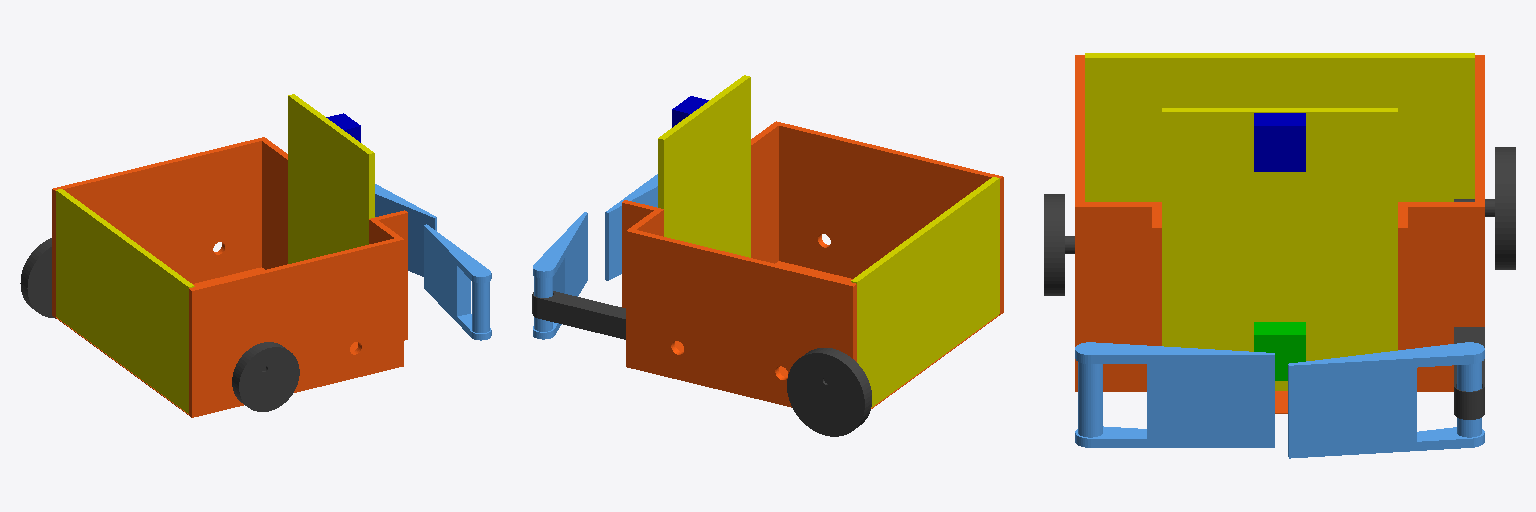
--- Facts derived from the render (not from the file) ---
The picture shows the robot from 3 angles, left to right: view 1: azimuth 30°, elevation 25°; view 2: azimuth 150°, elevation 25°; view 3: azimuth 270°, elevation 25°; orthographic projection.
Model final with 14 links and 13 joints (2 revolute, 4 continuous, 2 prismatic, 5 fixed), rooted at base_link, posed every joint at zero.
Visible links, largest first — view 1: base_link, B, F, RF, RRW, LF, RLW; view 2: base_link, B, F, RLW, LF, LA, RF; view 3: F, B, base_link, RF, LF, FC, RLW, RRW, L, LA.
Boxes of the visible links, x1,y1,x2,y2 form: base_link: (52, 137, 407, 417); B: (56, 189, 194, 413); F: (288, 94, 374, 263); RF: (424, 224, 491, 340); RRW: (232, 342, 299, 411); LF: (375, 184, 436, 276); RLW: (20, 238, 55, 318); base_link: (622, 121, 1003, 408); B: (851, 177, 999, 407); F: (658, 75, 750, 257); RLW: (787, 348, 871, 436); LF: (533, 212, 587, 339); LA: (532, 291, 625, 339); RF: (605, 174, 657, 280); F: (1162, 108, 1397, 390); B: (1085, 53, 1474, 201); base_link: (1075, 55, 1484, 413); RF: (1075, 342, 1274, 447); LF: (1288, 342, 1484, 458); FC: (1254, 113, 1305, 171); RLW: (1454, 147, 1515, 269); RRW: (1044, 194, 1074, 295); L: (1254, 322, 1305, 380); LA: (1454, 327, 1484, 419).
Size in the robot's own frame: 0.5594 by 0.46 by 0.315 metres.
Meshes: 14 distinct files referenced, 10 mesh visuals loaded (10 binary STL); not drawn: 4 (reference not matched to a file when rendering).

The robot description file, URDF, robot "final":
<?xml version="1.0" encoding="utf-8"?>

<robot
  name="final">

  <material name="black">
    <color rgba="0.0 0.0 0.0 1.0"/>
  </material>

  <material name="blue">
    <color rgba="0.0 0.0 0.8 1.0"/>
  </material>

  <material name="green">
    <color rgba="0.0 0.8 0.0 1.0"/>
  </material>

  <material name="grey">
    <color rgba="0.3 0.3 0.3 1.0"/>
  </material>

  <material name="orange">
    <color rgba="1 0.4 0.1 1"/>
  </material>

  <material name="red">
    <color rgba="0.8 0.0 0.0 1.0"/>
  </material>

  <material name="white">
    <color rgba="1.0 1.0 1.0 1.0"/>
  </material>

  <material name="yellow">
    <color rgba="0.9 0.9 0 1.0"/>
  </material>

  <material name="cyan">
    <color rgba="0.4 0.7 1 1.0"/>
  </material>

  <link
    name="base_link">
    <inertial>
      <origin
        xyz="0.045732 0.09332 1.1107E-16"
        rpy="0 0 0" />
      <mass
        value="2.0304" />
      <inertia
        ixx="0.072006"
        ixy="-0.00042676"
        ixz="-3.7413E-17"
        iyy="0.092836"
        iyz="-5.2298E-18"
        izz="0.036075" />
    </inertial>
    <visual>
      <origin
        xyz="0 0 0"
        rpy="0 0 0" />
      <geometry>
        <mesh
          filename="package://final_description/meshes/base_link.STL" />
      </geometry>
      <material
        name="orange">
      </material>
    </visual>
    <collision>
      <origin
        xyz="0 0 0"
        rpy="0 0 0" />
      <geometry>
        <mesh
          filename="package://final_description/meshes/base_link.STL" scale="1 1 1"/>
      </geometry>
    </collision>
  </link>
  <link
    name="B">
    <inertial>
      <origin
        xyz="0.005 0.1 2.2811E-17"
        rpy="0 0 0" />
      <mass
        value="0.76" />
      <inertia
        ixx="0.011679"
        ixy="1.0729E-20"
        ixz="1.7754E-20"
        iyy="0.0091517"
        iyz="1.7658E-19"
        izz="0.0025397" />
    </inertial>
    <visual>
      <origin
        xyz="0.175 0 0"
        rpy="0 0 0" />
      <geometry>
        <mesh
          filename="package://final_description/meshes/B.STL" />
      </geometry>
      <material
        name="yellow">
      </material>
    </visual>
    <collision>
      <origin
        xyz="0.175 0 0"
        rpy="0 0 0" />
      <geometry>
        <mesh
          filename="package://final_description/meshes/B.STL" />
      </geometry>
        <!--surface>
         <bounce>
          <restitution_coefficient>0.0</restitution_coefficient>
          <threshold>1000000</threshold>
         </bounce>
         <contact>
          <ode>
           <max_vel>0</max_vel>
          </ode>
         </contact>
        </surface-->
    </collision>
  </link>
  <joint
    name="BJ"
    type="prismatic">
    <origin
      xyz="-0.175 0 0.001"
      rpy="1.5708 0 0" />
    <parent
      link="base_link" />
    <child
      link="B" />
    <axis
      xyz="0 -1 0" />
    <limit
      lower="-0.15"
      upper="0"
      effort="10"
      velocity="0.1" />
    <!--safety_controller
      k_velocity="0" /-->
  </joint>
  <link
    name="FRW">
    <inertial>
      <origin
        xyz="-2.7756E-17 -3.7636E-05 -0.048156"
        rpy="0 0 0" />
      <mass
        value="0.16694" />
      <inertia
        ixx="0.00011342"
        ixy="0"
        ixz="2.647E-21"
        iyy="0.00011354"
        iyz="-6.1853E-08"
        izz="0.00019663" />
    </inertial>
    <visual>
      <origin
        xyz="0 0 0"
        rpy="0 0 0" />
      <geometry>
        <mesh
          filename="package://final_description/meshes/FRW.STL" />
      </geometry>
      <material
        name="grey">
      </material>
    </visual>
    <collision>
      <origin
        xyz="0 0 0"
        rpy="0 0 0" />
      <geometry>
        <mesh
          filename="package://final_description/meshes/FRW.STL" />
      </geometry>
    </collision>
  </link>
  <joint
    name="FRWJ"
    type="continuous">
    <origin
      xyz="0.095 -0.17 0.047"
      rpy="1.5707963267949 0.39309481042652 -3.14159265358979" />
    <parent
      link="base_link" />
    <child
      link="FRW" />
    <axis
      xyz="0 0 1" />
    <!--safety_controller
      k_velocity="0" /-->
  </joint>
  <link
    name="RRW">
    <inertial>
      <origin
        xyz="0 -3.7636E-05 -0.048156"
        rpy="0 0 0" />
      <mass
        value="0.16694" />
      <inertia
        ixx="0.00011342"
        ixy="1.0164E-20"
        ixz="2.6933E-21"
        iyy="0.00011354"
        iyz="-6.1853E-08"
        izz="0.00019663" />
    </inertial>
    <visual>
      <origin
        xyz="0 0 0"
        rpy="0 0 0" />
      <geometry>
        <mesh
          filename="package://final_description/meshes/RRW.STL" />
      </geometry>
      <material
        name="grey">
      </material>
    </visual>
    <collision>
      <origin
        xyz="0 0 0"
        rpy="0 0 0" />
      <geometry>
        <mesh
          filename="package://final_description/meshes/RRW.STL" />
      </geometry>
    </collision>
  </link>
  <joint
    name="RRWJ"
    type="continuous">
    <origin
      xyz="-0.065 -0.17 0.047"
      rpy="1.5707963267949 0.393094810426521 -3.14159265358979" />
    <parent
      link="base_link" />
    <child
      link="RRW" />
    <axis
      xyz="0 0 1" />
    <!--safety_controller
      k_velocity="0" /-->
  </joint>
  <link
    name="FLW">
    <inertial>
      <origin
        xyz="1.3878E-17 -3.7636E-05 -0.048156"
        rpy="0 0 0" />
      <mass
        value="0.16694" />
      <inertia
        ixx="0.00011342"
        ixy="-3.1238E-22"
        ixz="-9.8323E-22"
        iyy="0.00011354"
        iyz="-6.1853E-08"
        izz="0.00019663" />
    </inertial>
    <visual>
      <origin
        xyz="0 0 0"
        rpy="0 0 0" />
      <geometry>
        <mesh
          filename="package://final_description/meshes/FLW.STL" />
      </geometry>
      <material
        name="grey">
      </material>
    </visual>
    <collision>
      <origin
        xyz="0 0 0"
        rpy="0 0 0" />
      <geometry>
        <mesh
          filename="package://final_description/meshes/FLW.STL" />
      </geometry>
    </collision>
  </link>
  <joint
    name="FLWJ"
    type="continuous">
    <origin
      xyz="0.095 0.17 0.047"
      rpy="1.5707963267949 0 0" />
    <parent
      link="base_link" />
    <child
      link="FLW" />
    <axis
      xyz="0 0 -1" />
    <!--safety_controller
      k_velocity="0" /-->
  </joint>
  <link
    name="RLW">
    <inertial>
      <origin
        xyz="0 -3.7636E-05 -0.048156"
        rpy="0 0 0" />
      <mass
        value="0.16694" />
      <inertia
        ixx="0.00011342"
        ixy="-2.065E-22"
        ixz="-9.8323E-22"
        iyy="0.00011354"
        iyz="-6.1853E-08"
        izz="0.00019663" />
    </inertial>
    <visual>
      <origin
        xyz="0 0 0"
        rpy="0 0 0" />
      <geometry>
        <mesh
          filename="package://final_description/meshes/RLW.STL" />
      </geometry>
      <material
        name="grey">
      </material>
    </visual>
    <collision>
      <origin
        xyz="0 0 0"
        rpy="0 0 0" />
      <geometry>
        <mesh
          filename="package://final_description/meshes/RLW.STL" />
      </geometry>
    </collision>
  </link>
  <joint
    name="RLWJ"
    type="continuous">
    <origin
      xyz="-0.065 0.17 0.047"
      rpy="1.5707963267949 0 0" />
    <parent
      link="base_link" />
    <child
      link="RLW" />
    <axis
      xyz="0 0 -1" />
    <!--safety_controller
      k_velocity="0" /-->
  </joint>

### <!--removed cameras--> ###

  <!--link
    name="RC">
    <inertial>
      <origin
        xyz="0.015 0 0"
        rpy="0 0 0" />
      <mass
        value="0.075" />
      <inertia
        ixx="3.125E-05"
        ixy="-1.6263E-22"
        ixz="4.2352E-22"
        iyy="2.125E-05"
        iyz="-1.0334E-21"
        izz="2.125E-05" />
    </inertial>
    <visual>
      <origin
        xyz="0 0 0"
        rpy="0 0 0" />
      <geometry>
        <mesh
          filename="package://final_description/meshes/RC.STL" />
      </geometry>
      <material
        name="blue">
      </material>
    </visual>
    <collision>
      <origin
        xyz="0 0 0"
        rpy="0 0 0" />
      <geometry>
        <mesh
          filename="package://final_description/meshes/RC.STL" />
      </geometry>
    </collision>
  </link>
  <joint
    name="RCJ"
    type="fixed">
    <origin
      xyz="0.03 -0.23 0.125"
      rpy="1.5707963267949 1.57 3.14" />
    <parent
      link="base_link" />
    <child
      link="RC" />
    <axis
      xyz="0 0 0" />
    <safety_controller
      k_velocity="0" />
  </joint-->
  <!--link
    name="LC">
    <inertial>
      <origin
        xyz="0.015 0 0"
        rpy="0 0 0" />
      <mass
        value="0.075" />
      <inertia
        ixx="3.125E-05"
        ixy="1.6263E-22"
        ixz="-4.2352E-22"
        iyy="2.125E-05"
        iyz="-1.0334E-21"
        izz="2.125E-05" />
    </inertial>
    <visual>
      <origin
        xyz="0 0 0"
        rpy="0 0 0" />
      <geometry>
        <mesh
          filename="package://final_description/meshes/LC.STL" />
      </geometry>
      <material
        name="blue">
      </material>
    </visual>
    <collision>
      <origin
        xyz="0 0 0"
        rpy="0 0 0" />
      <geometry>
        <mesh
          filename="package://final_description/meshes/LC.STL" />
      </geometry>
    </collision>
  </link>
  <joint
    name="LCJ"
    type="fixed">
    <origin
      xyz="0.03 0.20 0.125"
      rpy="0 0 -4.71" />
    <parent
      link="base_link" />
    <child
      link="LC" />
    <axis
      xyz="0 0 0" />
    <safety_controller
      k_velocity="0" />
  </joint-->
  <link
    name="RA">
    <inertial>
      <origin
        xyz="0.064226 0 0"
        rpy="0 0 0" />
      <mass
        value="0.11493" />
      <inertia
        ixx="1.7546E-05"
        ixy="1.3293E-21"
        ixz="-5.3917E-21"
        iyy="0.0001712"
        iyz="-2.9655E-21"
        izz="0.00017089" />
    </inertial>
    <visual>
      <origin
        xyz="0 0 0"
        rpy="0 0 0" />
      <geometry>
        <mesh
          filename="package://final_description/meshes/RA.STL" />
      </geometry>
      <material
        name="grey">
      </material>
    </visual>
    <collision>
      <origin
        xyz="0 0 0"
        rpy="0 0 0" />
      <geometry>
        <mesh
          filename="package://final_description/meshes/RA.STL" />
      </geometry>
    </collision>
  </link>
  <joint
    name="RAJ"
    type="fixed">
    <origin
      xyz="0.175 -0.185 0.055"
      rpy="1.5707963267949 0 0" />
    <parent
      link="base_link" />
    <child
      link="RA" />
    <axis
      xyz="0 0 0" />
    <safety_controller
      k_velocity="0" />
  </joint>
  <link
    name="RF">
    <inertial>
      <origin
        xyz="0.075327 1.3878E-17 0.0052437"
        rpy="0 0 0" />
      <mass
        value="0.24614" />
      <inertia
        ixx="0.00024699"
        ixy="1.1698E-20"
        ixz="-4.7172E-05"
        iyy="0.00069522"
        iyz="3.0415E-20"
        izz="0.00092098" />
    </inertial>
    <visual>
      <origin
        xyz="-0.31 -0.05 -0.185"
        rpy="0 0 0" />
      <geometry>
        <mesh
          filename="package://final_description/meshes/RF.STL" />
      </geometry>
      <material
        name="cyan">
      </material>
    </visual>
    <collision>
      <origin
        xyz="-0.31 -0.05 -0.185"
        rpy="0 0 0" />
      <geometry>
        <mesh
          filename="package://final_description/meshes/RF.STL" />
      </geometry>
        <surface>
         <bounce>
          <restitution_coefficient>0.9</restitution_coefficient>
          <threshold>0</threshold>
         </bounce>
         <contact>
          <ode>
           <max_vel>10</max_vel>
          </ode>
         </contact>
        </surface>
    </collision>
  </link>
  <joint
    name="RFJ"
    type="revolute">
    <origin
      xyz="0.135 0 0"
      rpy="0 0.7854 0" />
    <parent
      link="RA" />
    <child
      link="RF" />
    <axis
      xyz="0 1 0" />
    <limit
      lower="-1.5"
      upper="0.2"
      effort="100"
      velocity="0.15" />
    <!--safety_controller
      k_velocity="0" /-->
  </joint>
  <link
    name="LA">
    <inertial>
      <origin
        xyz="0.064226 0 0"
        rpy="0 0 0" />
      <mass
        value="0.11493" />
      <inertia
        ixx="1.7546E-05"
        ixy="5.6286E-21"
        ixz="2.0529E-21"
        iyy="0.0001712"
        iyz="-2.9655E-21"
        izz="0.00017089" />
    </inertial>
    <visual>
      <origin
        xyz="-0.175 -0.055 0.185"
        rpy="0 0 0" />
      <geometry>
        <mesh
          filename="package://final_description/meshes/LA.STL" />
      </geometry>
      <material
        name="grey">
      </material>
    </visual>
    <collision>
      <origin
        xyz="-0.175 -0.055 0.185"
        rpy="0 0 0" />
      <geometry>
        <mesh
          filename="package://final_description/meshes/LA.STL" />
      </geometry>
    </collision>
  </link>
  <joint
    name="LAJ"
    type="fixed">
    <origin
      xyz="0.175 0.185 0.055"
      rpy="1.5708 0 0" />
    <parent
      link="base_link" />
    <child
      link="LA" />
    <axis
      xyz="0 0 0" />
    <safety_controller
      k_velocity="0" />
  </joint>
  <link
    name="LF">
    <inertial>
      <origin
        xyz="0.075327 6.9389E-18 0.0052437"
        rpy="0 0 0" />
      <mass
        value="0.24614" />
      <inertia
        ixx="0.00024699"
        ixy="2.2224E-20"
        ixz="-4.7172E-05"
        iyy="0.00069522"
        iyz="-1.3368E-20"
        izz="0.00092098" />
    </inertial>
    <visual>
      <origin
        xyz="-0.31 -0.05 0.185"
        rpy="0 0 0" />
      <geometry>
        <mesh
          filename="package://final_description/meshes/LF.STL" />
      </geometry>
      <material
        name="cyan">
      </material>
    </visual>
    <collision>
      <origin
        xyz="-0.31 -0.05 0.185"
        rpy="0 0 0" />
      <geometry>
        <mesh
          filename="package://final_description/meshes/LF.STL" />
      </geometry>
        <surface>
         <bounce>
          <restitution_coefficient>0.9</restitution_coefficient>
          <threshold>0</threshold>
         </bounce>
         <contact>
          <ode>
           <max_vel>10</max_vel>
          </ode>
         </contact>
        </surface>
    </collision>
  </link>
  <joint
    name="LFJ"
    type="revolute">
    <origin
      xyz="0.135 0 0"
      rpy="0 -0.64739 0" />
    <parent
      link="LA" />
    <child
      link="LF" />
    <axis
      xyz="0 1 0" />
    <limit
      lower="-0.34"
      upper="1.36"
      effort="100"
      velocity="0.15" />
    <mimic
      joint="RFJ" multiplier="-1" offset="0"/>
    <!--safety_controller
      k_velocity="0" /-->
  </joint>
  <link
    name="F">
    <inertial>
      <origin
        xyz="0 0 0"
        rpy="0 0 0" />
      <mass
        value="0" />
      <inertia
        ixx="0"
        ixy="0"
        ixz="0"
        iyy="0"
        iyz="0"
        izz="0" />
    </inertial>
    <visual>
      <origin
        xyz="-0.165 0 0"
        rpy="0 0 0" />
      <geometry>
        <mesh
          filename="package://final_description/meshes/F.STL" />
      </geometry>
      <material
        name="yellow">
      </material>
    </visual>
    <collision>
      <origin
        xyz="0 0 0"
        rpy="0 0 0" />
      <geometry>
        <mesh
          filename="package://final_description/meshes/F.STL" />
      </geometry>
    </collision>
  </link>
  <joint
    name="FJ"
    type="prismatic">
    <origin
      xyz="0.165 0 0.001"
      rpy="1.5708 0 0" />
    <parent
      link="base_link" />
    <child
      link="F" />
    <axis
      xyz="0 -1 0" />
    <limit
      lower="-0.18"
      upper="0"
      effort="10"
      velocity="0.1" />
    <!--safety_controller
      k_velocity="0" /-->
  </joint>
  <link
    name="FC">
    <inertial>
      <origin
        xyz="0.015 0 1.3105E-16"
        rpy="0 0 0" />
      <mass
        value="0.075" />
      <inertia
        ixx="3.125E-05"
        ixy="5.4323E-22"
        ixz="-2.4651E-36"
        iyy="2.125E-05"
        iyz="-1.8149E-21"
        izz="2.125E-05" />
    </inertial>
    <visual>
      <origin
        xyz="0 0 0"
        rpy="0 0 0" />
      <geometry>
        <mesh
          filename="package://final_description/meshes/FC.STL" />
      </geometry>
      <material
        name="blue">
      </material>
    </visual>
    <collision>
      <origin
        xyz="0 0 0"
        rpy="0 0 0" />
      <geometry>
        <mesh
          filename="package://final_description/meshes/FC.STL" />
      </geometry>
    </collision>
  </link>
  <joint
    name="FCJ"
    type="fixed">
    <origin
      xyz="0.01 0.275 0"
      rpy="-1.57 0 0" />
    <parent
      link="F" />
    <child
      link="FC" />
    <axis
      xyz="0 0 0" />
    <!--safety_controller
      k_velocity="0" /-->
  </joint>
  <link
    name="L">
    <inertial>
      <origin
        xyz="0.025 1.3878E-17 1.1371E-16"
        rpy="0 0 0" />
      <mass
        value="0.075" />
      <inertia
        ixx="3.125E-05"
        ixy="2.5429E-36"
        ixz="-5.8031E-37"
        iyy="2.125E-05"
        iyz="-2.9499E-21"
        izz="2.125E-05" />
    </inertial>
    <visual>
      <origin
        xyz="0 0 0"
        rpy="0 0 0" />
      <geometry>
        <mesh
          filename="package://final_description/meshes/L.STL" />
      </geometry>
      <material
        name="green">
      </material>
    </visual>
    <collision>
      <origin
        xyz="0 0 0"
        rpy="0 0 0" />
      <geometry>
        <mesh
          filename="package://final_description/meshes/L.STL" />
      </geometry>
    </collision>
  </link>
  <joint
    name="LJ"
    type="fixed">
    <origin
      xyz="0 0.05 0"
      rpy="0 0 0" />
    <parent
      link="F" />
    <child
      link="L" />
    <axis
      xyz="0 0 0" />
    <!--safety_controller
      k_velocity="0" /-->
  </joint>
  
  <!--LiDAR-->
  <link name="hokuyo_link">
    <collision>
      <origin xyz="0 0 0" rpy="0 0 0"/>
      <geometry>
    <box size="0.1 0.1 0.1"/>
      </geometry>
    </collision>

    <visual>
      <origin xyz="0 0 0" rpy="0 0 0"/>
      <geometry>
        <mesh filename="package://final_description/meshes/hokuyo.dae"/>
      </geometry>
    </visual>

    <inertial>
      <mass value="1e-5" />
      <origin xyz="0 0 0" rpy="0 0 0"/>
      <inertia ixx="1e-6" ixy="0" ixz="0" iyy="1e-6" iyz="0" izz="1e-6" />
    </inertial>
  </link>

  <joint name="hokuyo_joint" type="fixed">
    <origin
      xyz="0.04 0.05 0"
      rpy="-1.57 0 0" />
    <parent
      link="F" />
	<child link="hokuyo_link"/>
    <axis
      xyz="0 1 0" />
    <!-- <safety_controller
      k_velocity="0" /> -->
  </joint>

   <gazebo reference="hokuyo_link">
    <sensor type="ray" name="head_hokuyo_sensor">
      <pose>0 0 0 0 0 0</pose>
      <visualize>true</visualize>
      <update_rate>40</update_rate>
      <ray>
        <scan>
          <horizontal>
            <samples>21</samples>
            <resolution>1</resolution>
            <min_angle>-0.000001</min_angle>
            <max_angle>0.000001</max_angle>
          </horizontal>
        </scan>
        <range>
          <min>0.20</min>
          <max>3.0</max>
          <resolution>0.01</resolution>
        </range>
        <noise>
          <type>gaussian</type>
          <!-- Noise parameters based on published spec for Hokuyo laser
               achieving "+-30mm" accuracy at range < 10m.  A mean of 0.0m and
               stddev of 0.01m will put 99.7% of samples within 0.03m of the true
               reading. -->
          <mean>0.0</mean>
          <stddev>0.01</stddev>
        </noise>
      </ray>
      <plugin name="gazebo_ros_head_hokuyo_controller" filename="libgazebo_ros_laser.so">
        <topicName>/umic_bot/laser/scan</topicName>
        <frameName>hokuyo_link</frameName>
      </plugin>
    </sensor>
  </gazebo>

  <!--mimic plugin-->
   <mimic_joint_plugin_gazebo
      name_prefix="LFJ"
      parent_joint="RFJ" mimic_joint="LFJ"
      multiplier="-1.0"
      max_effort="100.0" />
   <gazebo>
    <plugin name="mimic_joint_plugin" filename="libroboticsgroup_gazebo_mimic_joint_plugin.so">
     <joint>RFJ</joint>
     <mimicJoint>LFJ</mimicJoint>
     <multiplier>-1</multiplier>
     <offset>0</offset>
     <maxEffort>100.0</maxEffort>
    </plugin>
   </gazebo> 
	
	<!--camera plugins-->
  <gazebo reference="FC">
    <material>Gazebo/Green</material>
    <sensor type="camera" name="camera1">
      <update_rate>10.0</update_rate>
      <camera name="front_cam">
        <horizontal_fov>1.3962634</horizontal_fov>
        <image>
          <width>800</width>
          <height>800</height>
          <format>R8G8B8</format>
        </image>
        <clip>
          <near>0.02</near>
          <far>300</far>
        </clip>
      </camera>
      <plugin name="camera_controller" filename="libgazebo_ros_camera.so">
        <alwaysOn>true</alwaysOn>
        <updateRate>0.0</updateRate>
        <cameraName>mybot/camera1</cameraName>
        <imageTopicName>image_raw</imageTopicName>
        <cameraInfoTopicName>camera_info</cameraInfoTopicName>
        <frameName>camera</frameName>
        <hackBaseline>0.07</hackBaseline>
        <distortionK1>0.0</distortionK1>
        <distortionK2>0.0</distortionK2>
        <distortionK3>0.0</distortionK3>
        <distortionT1>0.0</distortionT1>
        <distortionT2>0.0</distortionT2>
      </plugin>
    </sensor>
  </gazebo>
   

  <!--Physical parameters-->
    <gazebo reference="FLW">
      <mu1 value="10000000.0"/>
      <mu2 value="10000000.0"/>
      <kp value="10000000.0" />
      <kd value="1.0" />
    </gazebo>  

    <gazebo reference="FLW">
      <mu1 value="1000000.0"/>
      <mu2 value="1000000.0"/>
      <kp value="10000000.0" />
      <kd value="1.0" />
    </gazebo>  

    <gazebo reference="FLW">
      <mu1 value="1000000.0"/>
      <mu2 value="1000000.0"/>
      <kp value="10000000.0" />
      <kd value="1.0" />
    </gazebo>  

    <gazebo reference="FLW">
      <mu1 value="1000000.0"/>
      <mu2 value="1000000.0"/>
      <kp value="10000000.0" />
      <kd value="1.0" />
    </gazebo>  

  <!--Differential_Transmissions-->
    <transmission name="FLW_trans">
      <type>transmission_interface/SimpleTransmission</type>
      <actuator name="FLW_wheel_motor">
        <mechanicalReduction>1</mechanicalReduction>
      </actuator>
      <joint name="FLWJ">
        <hardwareInterface>VelocityJointInterface</hardwareInterface>
      </joint>
    </transmission>

    <transmission name="FRW_trans">
      <type>transmission_interface/SimpleTransmission</type>
      <actuator name="FRW_wheel_motor">
        <mechanicalReduction>1</mechanicalReduction>
      </actuator>
      <joint name="FRWJ">
        <hardwareInterface>VelocityJointInterface</hardwareInterface>
      </joint>
    </transmission>

    <transmission name="RLW_trans">
      <type>transmission_interface/SimpleTransmission</type>
      <actuator name="RLW_wheel_motor">
        <mechanicalReduction>1</mechanicalReduction>
      </actuator>
      <joint name="RLWJ">
        <hardwareInterface>VelocityJointInterface</hardwareInterface>
      </joint>
    </transmission>

    <transmission name="RRW_trans">
      <type>transmission_interface/SimpleTransmission</type>
      <actuator name="RRW_wheel_motor">
        <mechanicalReduction>1</mechanicalReduction>
      </actuator>
      <joint name="RRWJ">
        <hardwareInterface>VelocityJointInterface</hardwareInterface>
      </joint>
    </transmission>

  <!--Gates_Transmission-->
    <transmission name="Front_Gate_Trans" type="SimpleTransmission">
      <type>transmission_interface/SimpleTransmission</type>
      <actuator name="Front_Gate_motor">
        <mechanicalReduction>1</mechanicalReduction>
      </actuator>
      <joint name="FJ">
        <hardwareInterface>EffortJointInterface</hardwareInterface>
      </joint>
    </transmission>

    <transmission name="Back_Gate_Trans" type="SimpleTransmission">
      <type>transmission_interface/SimpleTransmission</type>
      <actuator name="Back_Gate_Motor">
        <mechanicalReduction>1</mechanicalReduction>
      </actuator>
      <joint name="BJ">
        <hardwareInterface>EffortJointInterface</hardwareInterface>
      </joint>
    </transmission>

  <!--Flaps Transmission-->
    <transmission name="left_flap_Trans" type="SimpleTransmission">
      <type>transmission_interface/SimpleTransmission</type>
      <actuator name="left_flap_motor">
        <mechanicalReduction>1</mechanicalReduction>
      </actuator>
      <joint name="LFJ">
        <hardwareInterface>EffortJointInterface</hardwareInterface>
      </joint>
    </transmission>

    <transmission name="right_flap_Trans" type="SimpleTransmission">
      <type>transmission_interface/SimpleTransmission</type>
      <actuator name="right_flap_motor">
        <mechanicalReduction>1</mechanicalReduction>
      </actuator>
      <joint name="RFJ">
        <hardwareInterface>EffortJointInterface</hardwareInterface>
      </joint>
    </transmission>
   
  <!-- Gazebo plugin for ROS Control -->
   <gazebo>
     <plugin name="gazebo_ros_control" filename="libgazebo_ros_control.so">
     </plugin>
   </gazebo>

</robot>
